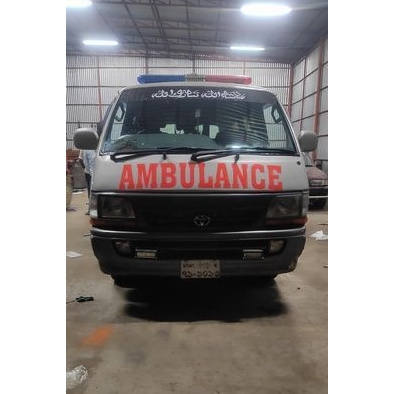Ambulance: (68, 65, 321, 339)
